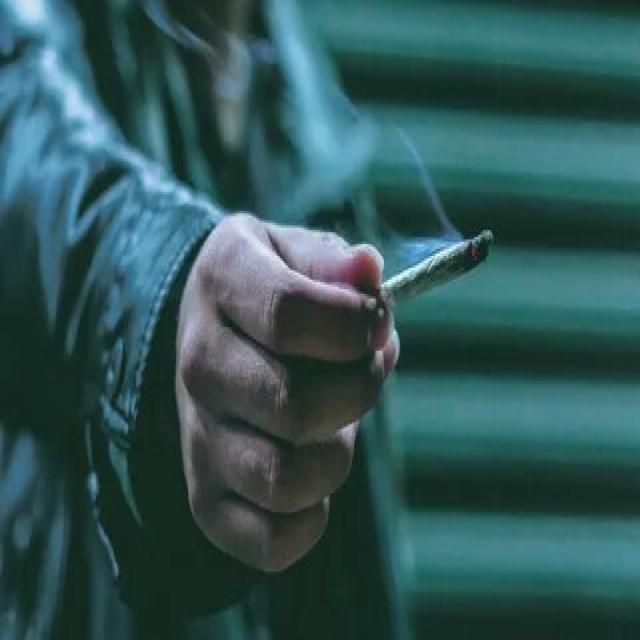cigarette: (368, 223, 500, 322)
